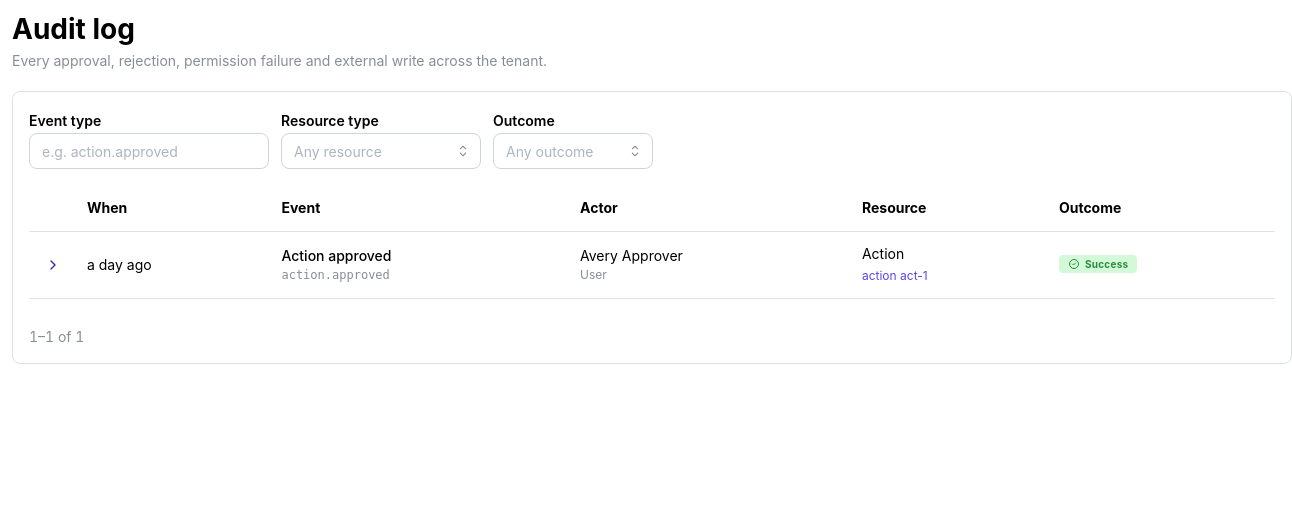
it: <AuditLogPage> rows › expands details with an accessible disclosure button (mouse and keyboard)
The width and height of the screenshot is (1292, 528).
Click the button named "Show details for Action approved": (53, 265) left=39, top=251, right=67, bottom=279
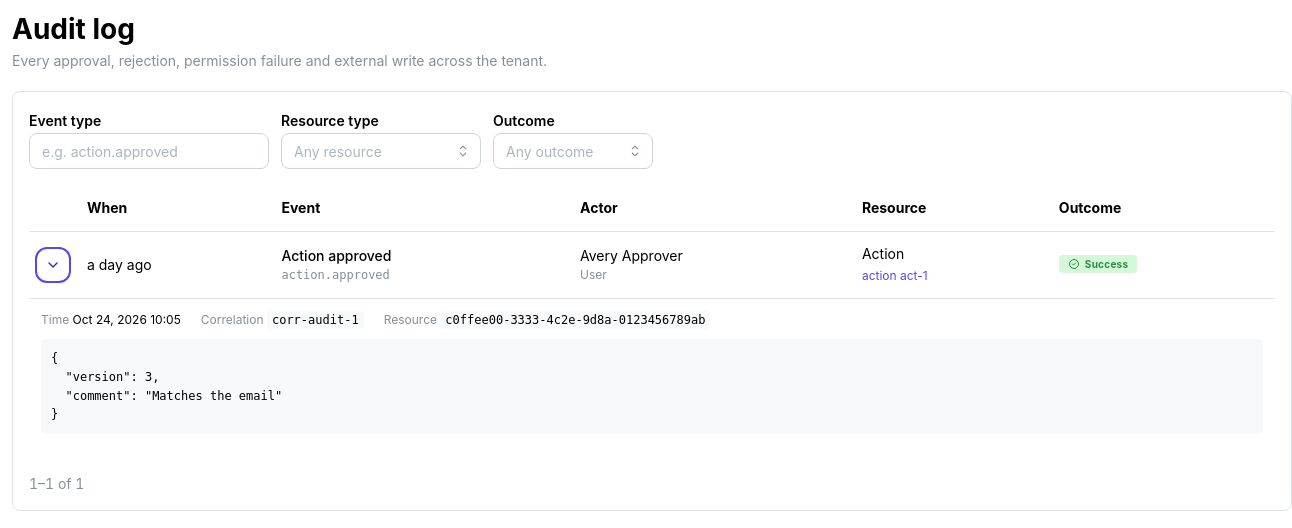
Now the button named "Show details for Action approved" is expanded, box left=39, top=251, right=67, bottom=279
Now the text "corr-audit-1" is shown, box left=267, top=311, right=364, bottom=329
Now the text "c0ffee00-3333-4c2e-9d8a-0123456789ab" is shown, box left=440, top=311, right=710, bottom=329
Press Enter
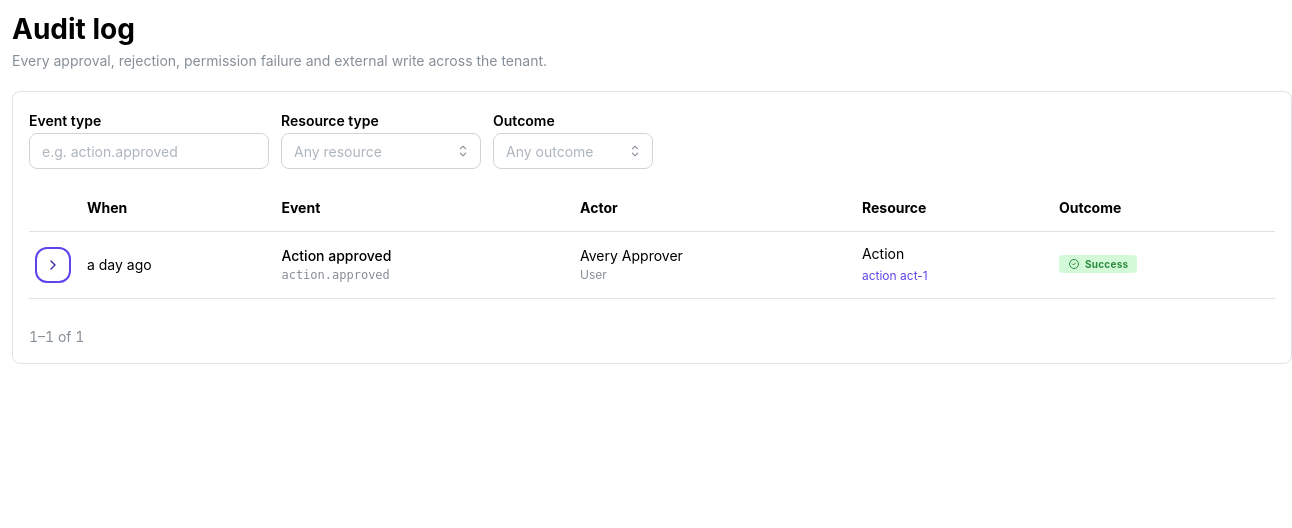
Now the button named "Show details for Action approved" is collapsed, box left=39, top=251, right=67, bottom=279
Now the element with id "audit-details-au-1" is gone
Type keys " "
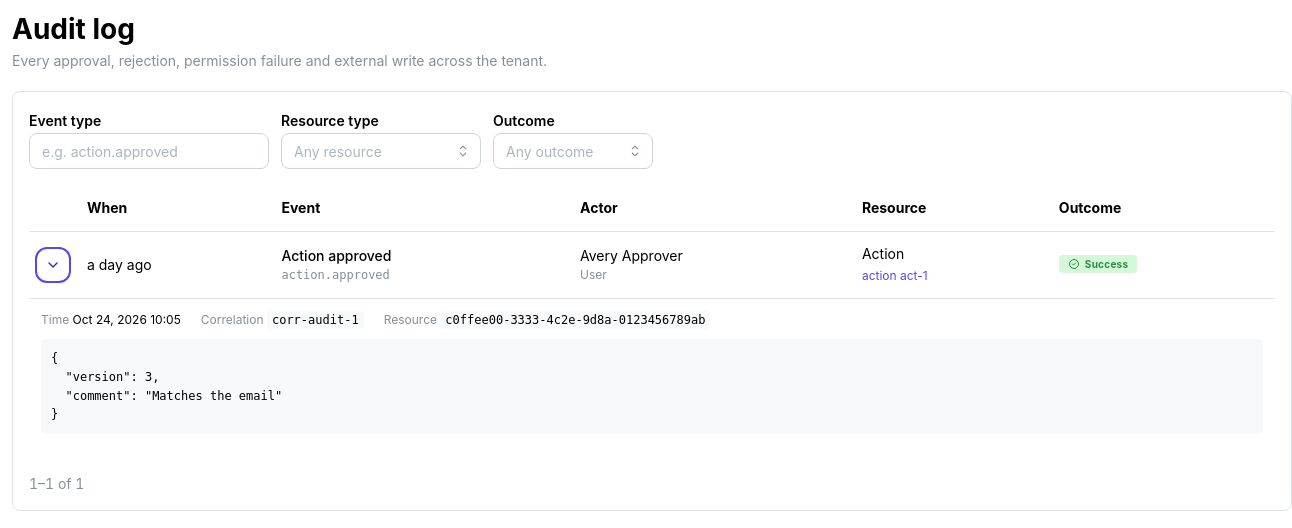
Now the button named "Show details for Action approved" is expanded, box left=39, top=251, right=67, bottom=279
